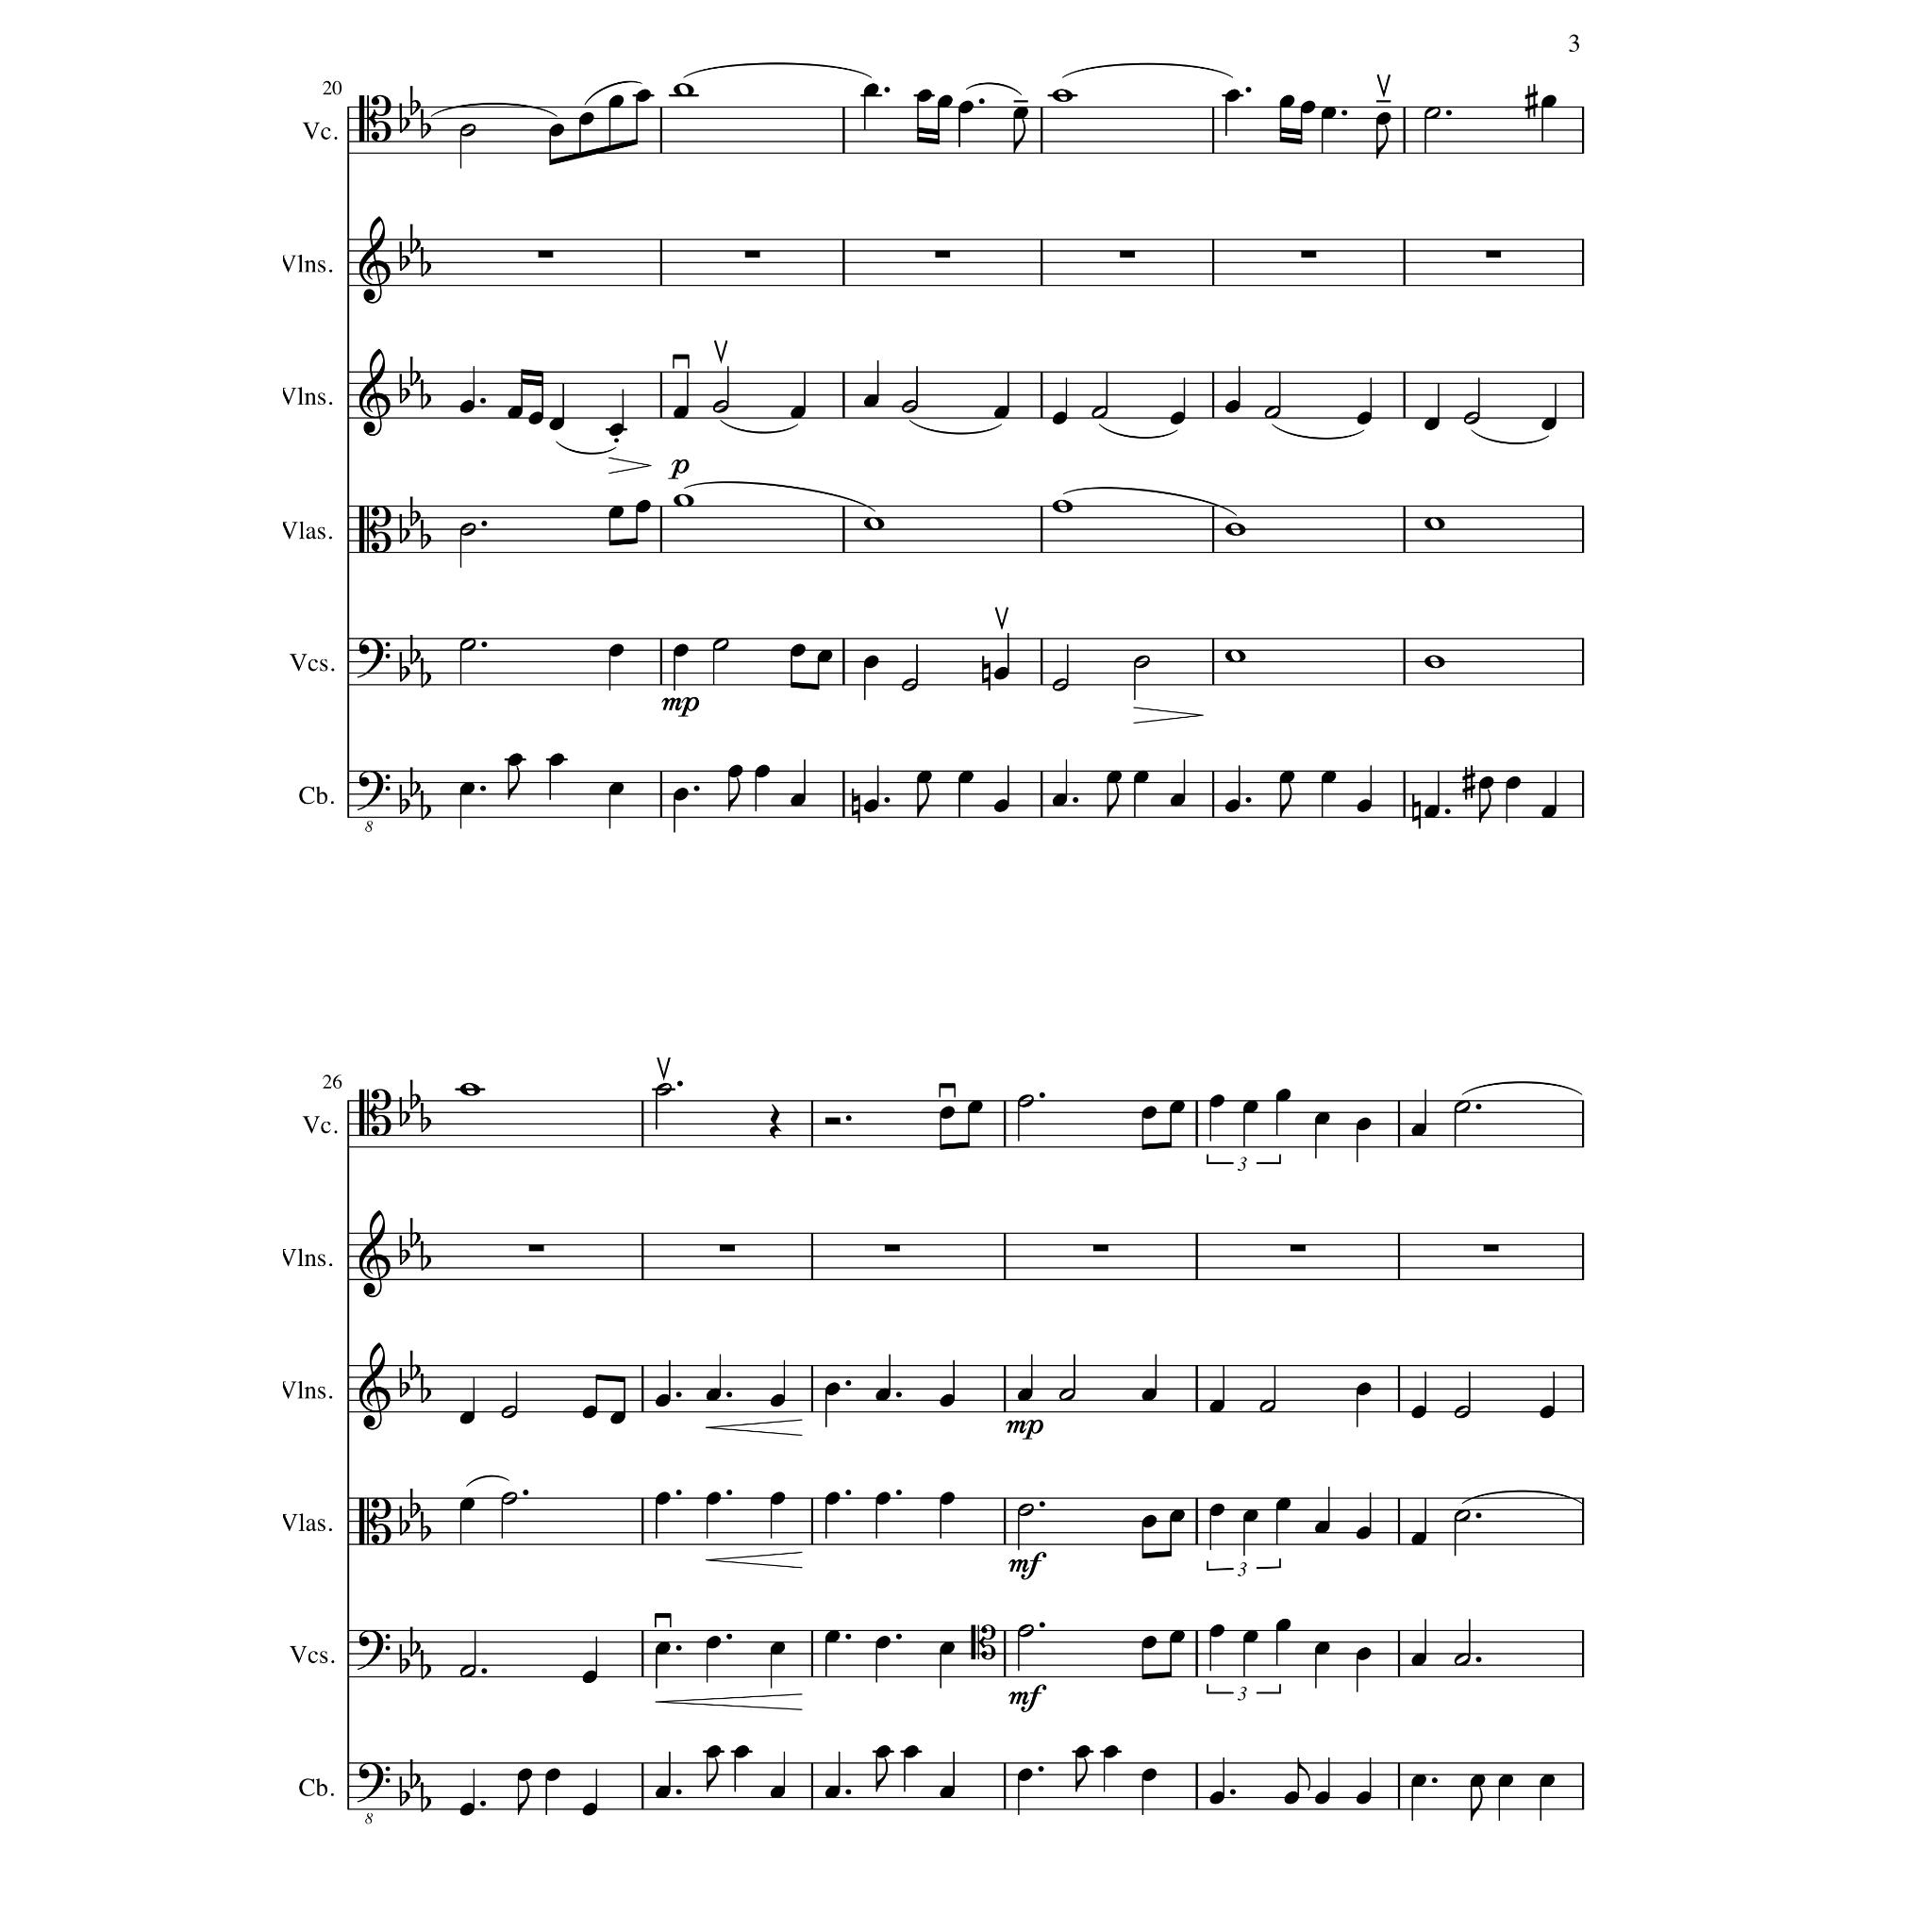fClef: (357, 639, 391, 679), (357, 770, 391, 810), (357, 1629, 391, 1670), (357, 1762, 391, 1803)
flag8thDown: (1014, 119, 1026, 154), (1479, 787, 1491, 823), (727, 777, 740, 812), (1076, 1757, 1088, 1792), (517, 1780, 529, 1815), (876, 1757, 888, 1792), (706, 1757, 718, 1792), (1108, 784, 1120, 817), (1376, 126, 1389, 159), (1279, 784, 1292, 817), (508, 766, 520, 800), (1470, 1787, 1483, 1821), (918, 784, 929, 817)
flag8thUp: (1297, 1757, 1311, 1792)
gClef: (359, 216, 391, 304), (359, 349, 391, 437), (359, 1210, 391, 1299), (359, 1343, 391, 1431)
noteheadBlack: (1299, 101, 1316, 115), (672, 787, 690, 801), (672, 405, 690, 419), (672, 644, 690, 658), (816, 649, 833, 663), (1242, 1509, 1260, 1523), (1242, 1629, 1260, 1644), (1355, 1116, 1373, 1131), (1355, 1382, 1373, 1396), (1224, 400, 1240, 414), (1169, 793, 1185, 807), (1279, 96, 1295, 110), (1051, 793, 1067, 807), (1012, 106, 1028, 120), (1541, 96, 1557, 110), (1375, 111, 1391, 126), (1320, 106, 1336, 120), (609, 96, 625, 110), (609, 423, 625, 437), (609, 644, 625, 658), (548, 124, 564, 138), (548, 752, 564, 766), (579, 111, 594, 126), (508, 752, 524, 766), (508, 405, 524, 419), (458, 400, 474, 414), (936, 96, 952, 110), (957, 101, 973, 115), (993, 405, 1008, 419), (993, 667, 1008, 681), (727, 764, 743, 778), (754, 764, 770, 778), (791, 405, 807, 419), (863, 83, 879, 97), (791, 644, 807, 658), (791, 793, 807, 807), (1276, 1497, 1292, 1511), (1276, 1088, 1292, 1102), (1076, 1744, 1092, 1759), (1102, 1744, 1118, 1759), (1169, 1509, 1185, 1523), (1169, 1629, 1185, 1644), (1208, 1399, 1224, 1414), (1208, 1624, 1224, 1638), (1141, 1106, 1157, 1120), (1141, 1389, 1157, 1403), (1141, 1514, 1157, 1529), (1141, 1767, 1157, 1782), (1539, 1405, 1555, 1419), (1410, 1123, 1426, 1138), (1410, 1405, 1426, 1419), (1410, 1652, 1426, 1667), (655, 1785, 671, 1799), (582, 1670, 598, 1684), (655, 1394, 671, 1408), (706, 1389, 722, 1403), (706, 1744, 722, 1759), (582, 1405, 598, 1419), (517, 1767, 533, 1782), (545, 1767, 561, 1782), (458, 1497, 474, 1511), (904, 1744, 920, 1759), (939, 1106, 955, 1120), (939, 1394, 955, 1408), (939, 1785, 955, 1799), (876, 1389, 892, 1403), (876, 1744, 892, 1759), (1017, 1389, 1033, 1403), (1017, 1767, 1033, 1782), (824, 1382, 840, 1396), (824, 1629, 840, 1644), (824, 1785, 840, 1799), (770, 1394, 786, 1408), (770, 1785, 786, 1799), (734, 1744, 750, 1759), (1355, 800, 1373, 812), (1355, 412, 1373, 425), (1242, 1100, 1260, 1113), (1468, 1775, 1486, 1787), (1497, 1775, 1514, 1787), (1355, 1527, 1373, 1539), (1355, 1647, 1373, 1660), (1355, 1792, 1373, 1805), (1169, 412, 1185, 425), (1224, 90, 1240, 103), (1224, 800, 1240, 812), (1279, 771, 1295, 784), (1051, 412, 1067, 425), (1106, 771, 1122, 784), (1134, 771, 1150, 784), (1541, 805, 1557, 817), (1541, 418, 1557, 430), (1479, 777, 1495, 789), (1506, 777, 1522, 789), (1424, 418, 1440, 430), (1424, 805, 1440, 817), (1320, 771, 1336, 784), (609, 506, 625, 518), (609, 782, 625, 794), (548, 418, 564, 430), (635, 90, 651, 103), (635, 501, 651, 513), (527, 412, 543, 425), (458, 782, 474, 794), (957, 771, 973, 784), (993, 800, 1008, 812), (916, 90, 932, 103), (916, 771, 932, 784), (863, 395, 879, 407), (863, 656, 879, 669), (863, 800, 879, 812), (1276, 1619, 1292, 1631), (1169, 1100, 1185, 1113), (1208, 1095, 1224, 1108), (1208, 1504, 1224, 1516), (1208, 1792, 1224, 1805), (1141, 1637, 1157, 1649), (1539, 1775, 1555, 1787), (1315, 1113, 1330, 1125), (1315, 1522, 1330, 1534), (1315, 1642, 1330, 1654), (1315, 1792, 1330, 1805), (1410, 1532, 1426, 1545), (1410, 1775, 1426, 1787), (1283, 1792, 1299, 1805), (655, 1642, 671, 1654), (582, 1803, 598, 1815), (610, 1412, 626, 1424), (655, 1491, 671, 1504), (706, 1491, 722, 1504), (706, 1637, 722, 1649), (458, 1412, 474, 1424), (458, 1803, 474, 1815), (939, 1491, 955, 1504), (939, 1642, 955, 1654), (876, 1491, 892, 1504), (876, 1637, 892, 1649), (968, 1100, 984, 1113), (824, 1491, 840, 1504), (770, 1642, 786, 1654), (770, 1491, 786, 1504)
noteheadHalf: (901, 400, 918, 414), (901, 678, 918, 692), (1258, 1399, 1276, 1414), (1058, 1389, 1076, 1403), (655, 1083, 672, 1097), (501, 1405, 518, 1419), (1053, 678, 1069, 692), (1424, 106, 1440, 120), (460, 124, 476, 138), (460, 522, 476, 536), (460, 639, 476, 653), (713, 400, 729, 414), (713, 639, 729, 653), (1454, 1405, 1470, 1419), (1454, 1509, 1470, 1523), (1454, 1652, 1470, 1667), (1017, 1624, 1033, 1638), (1263, 407, 1281, 419), (1090, 407, 1108, 419), (1132, 656, 1150, 669), (1463, 412, 1481, 425), (501, 1491, 518, 1504), (1454, 1100, 1470, 1113), (460, 1665, 476, 1677), (1017, 1095, 1033, 1108), (1017, 1504, 1033, 1516)
noteheadWhole: (1051, 499, 1074, 513), (672, 83, 695, 97), (672, 494, 695, 508), (458, 1083, 481, 1097), (1224, 524, 1246, 538), (1224, 649, 1246, 663), (1424, 517, 1445, 531), (1424, 655, 1445, 669), (863, 517, 885, 531), (1051, 90, 1074, 103)
restHalf: (824, 1116, 840, 1125)
restQuarter: (770, 1104, 782, 1139)
restWhole: (1093, 1244, 1109, 1253), (1290, 1244, 1306, 1253), (883, 1244, 899, 1253), (720, 1244, 736, 1253), (527, 1244, 543, 1253), (1483, 1244, 1499, 1253), (1120, 251, 1136, 258), (934, 251, 950, 258), (743, 251, 759, 258), (1300, 251, 1316, 258), (538, 251, 554, 258), (1486, 251, 1502, 258)
